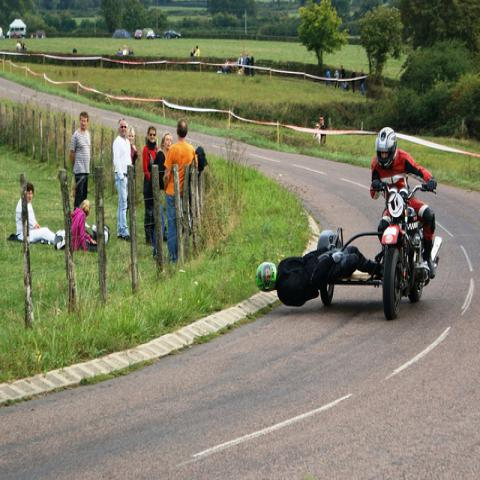car: (6, 19, 26, 38), (112, 30, 132, 39), (164, 30, 180, 40), (135, 30, 143, 39), (147, 31, 155, 39), (155, 34, 161, 38)
motorcycle: (373, 176, 442, 324)
